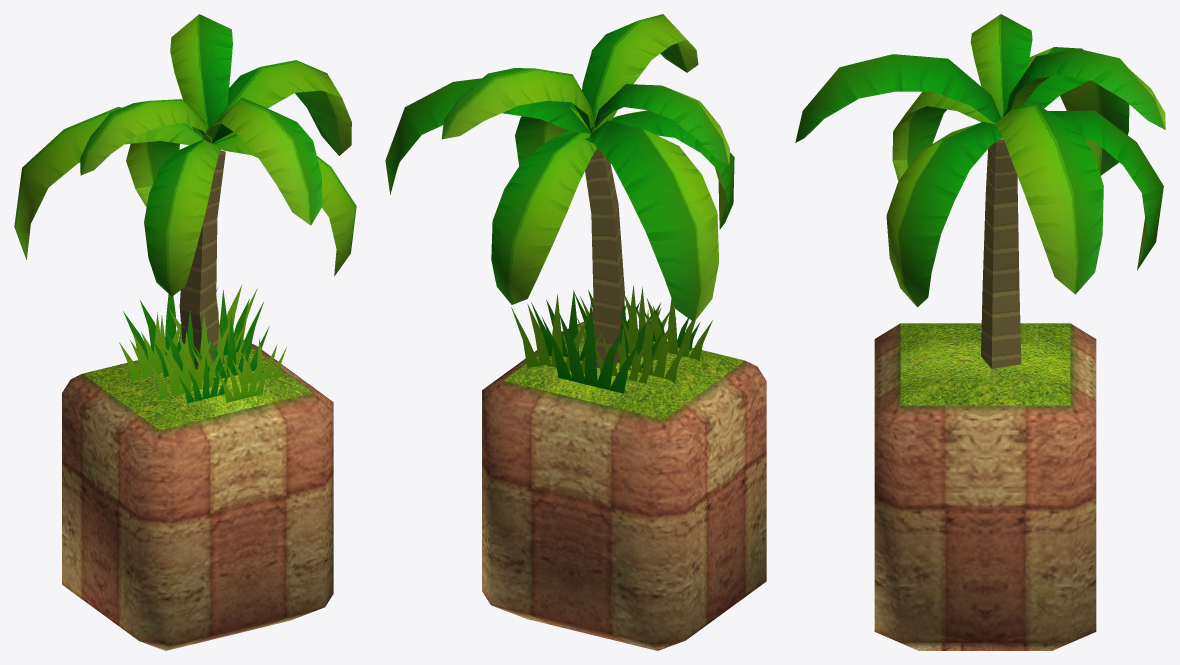
Rendered from GroundIsland.FBX.
3 views of the same model, side by side, from view 1: azimuth 30°, elevation 25°; view 2: azimuth 150°, elevation 25°; view 3: azimuth 270°, elevation 25° (orthographic). The views are drawn at different scales.
Parts seen in each view (by area): view 1: GroundIsland, PalmTree, Grass; view 2: GroundIsland, PalmTree, Grass; view 3: GroundIsland, PalmTree.
Boxes of the visible parts, x1,y1,x2,y2 form: GroundIsland: (62, 340, 333, 650); PalmTree: (14, 14, 356, 369); Grass: (119, 284, 286, 403); GroundIsland: (482, 321, 766, 650); PalmTree: (385, 14, 734, 367); Grass: (511, 285, 712, 393); GroundIsland: (874, 323, 1096, 650); PalmTree: (795, 14, 1165, 368).
Bounding box in the file's own units: 2.9 × 4.76 × 2.7.
